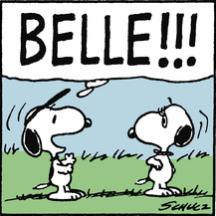snoopy: (22, 88, 92, 202)
